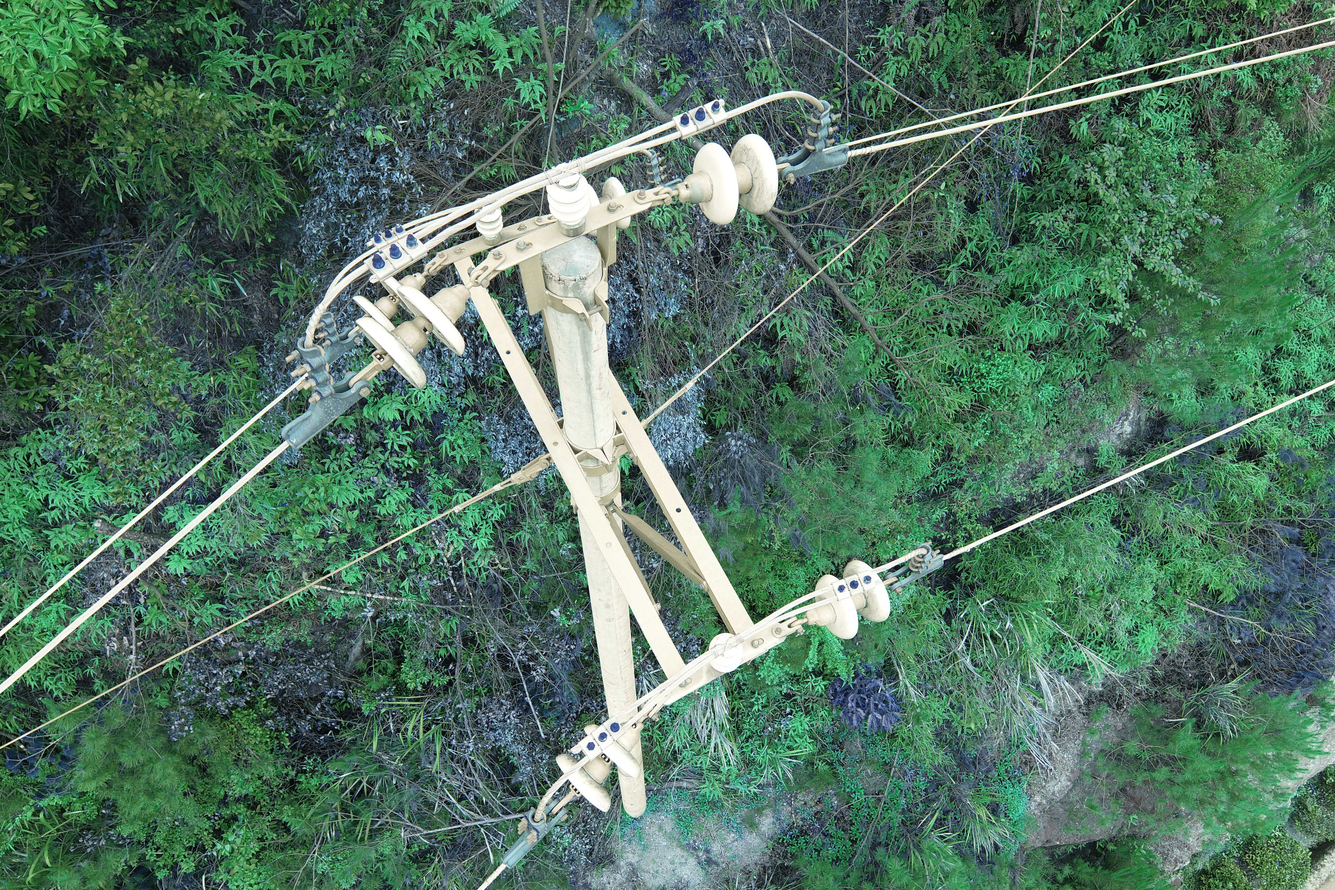severe_soiling_no_discharge_whole: (551, 710, 650, 815), (673, 131, 781, 227), (800, 557, 893, 645), (587, 174, 632, 236), (472, 200, 506, 245)
